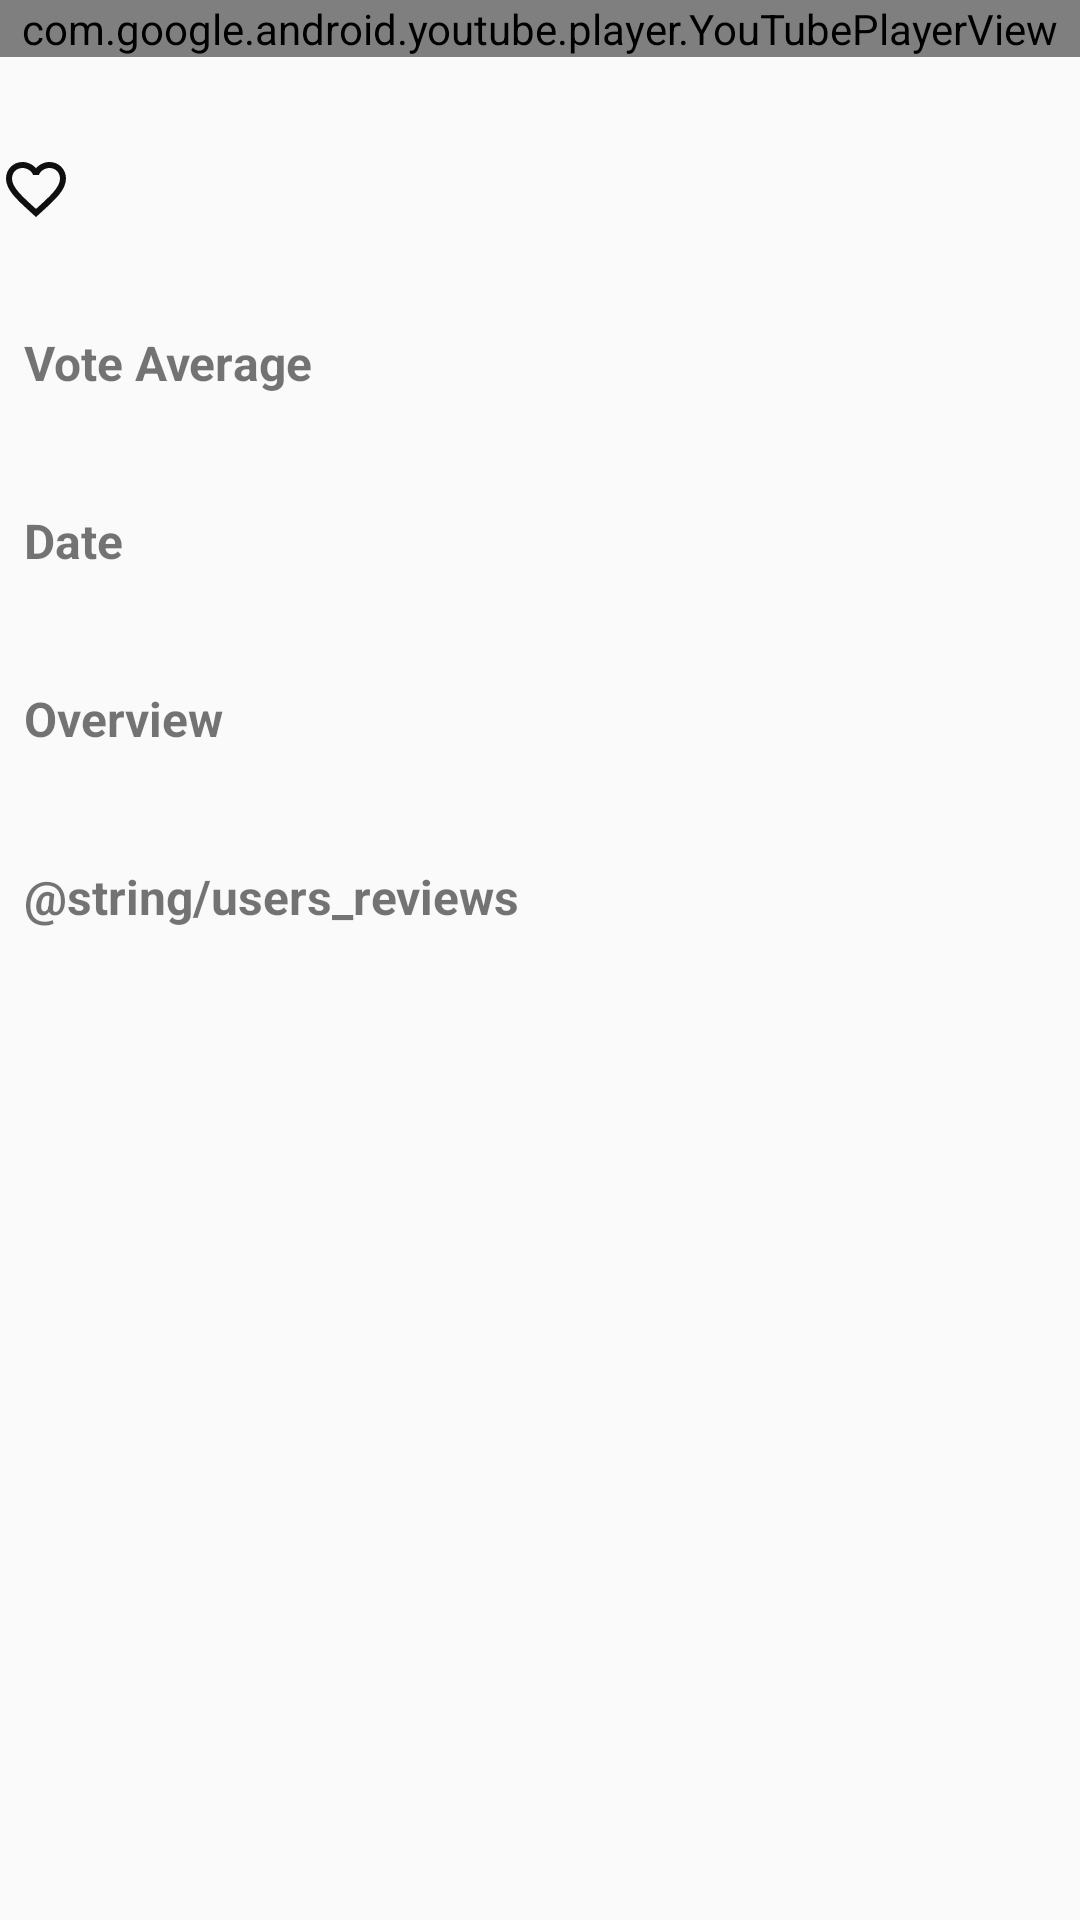

Screen size 1080px x 1920px. Icon name, then its box in pixels as box=[x1, y1, x2, y2]:
favorite border: box=[6, 162, 66, 217]
